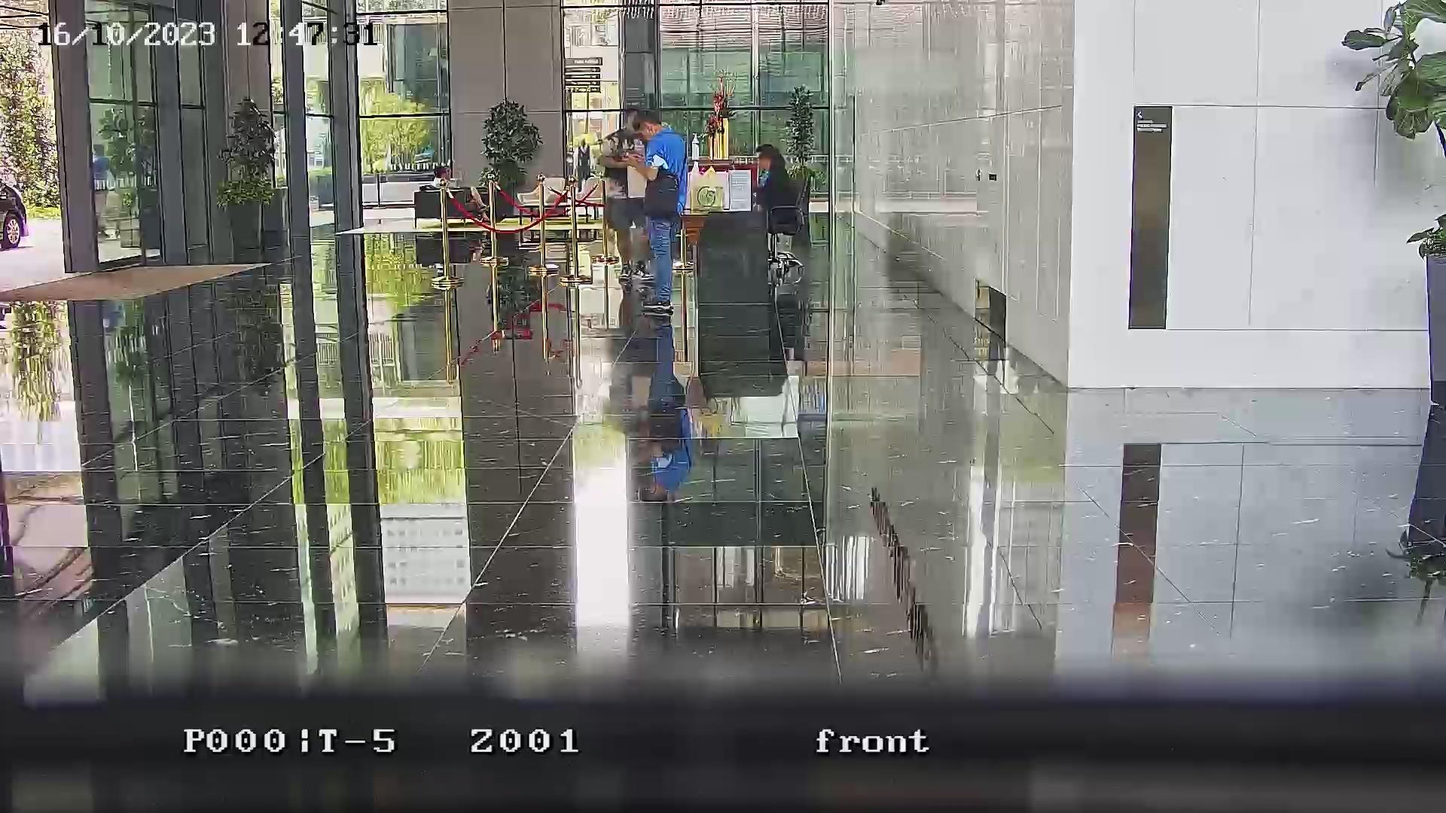person: (602, 109, 688, 310), (628, 109, 686, 309), (434, 163, 493, 224), (753, 145, 796, 223), (574, 139, 592, 194)
